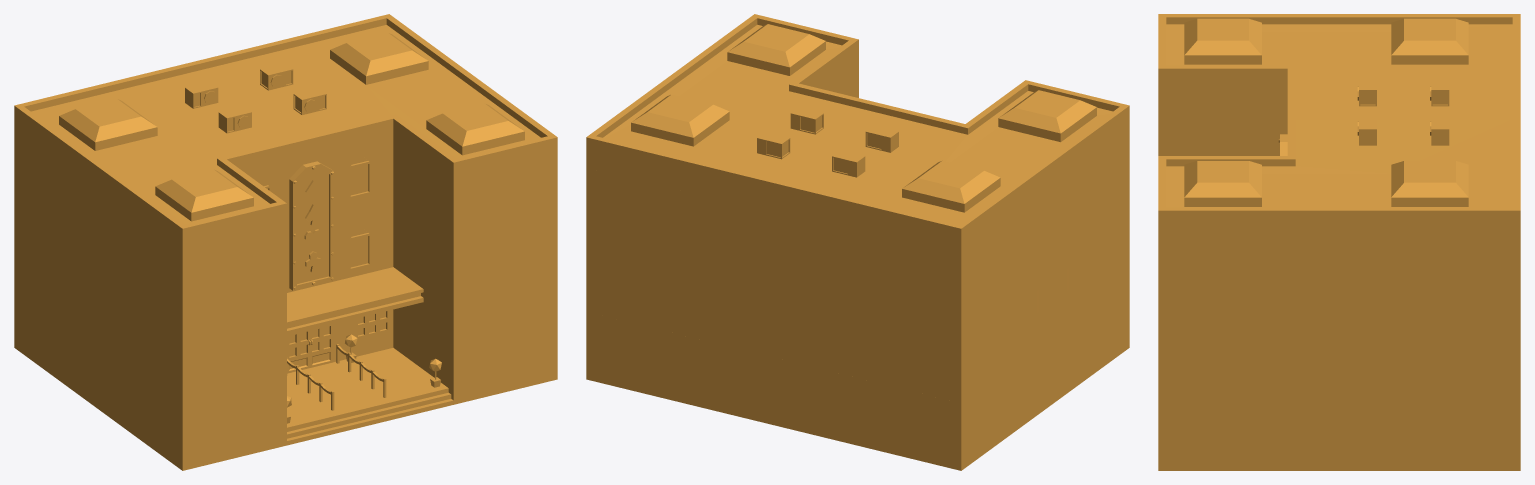
Rendered from building-casino.fbx.
3 renders of one model, left to right at view 1: azimuth 30°, elevation 25°; view 2: azimuth 150°, elevation 25°; view 3: azimuth 270°, elevation 25°, orthographic. The views are drawn at different scales.
Parts seen in each view (by area): view 1: building-casino; view 2: building-casino; view 3: building-casino.
Part boxes in pixels (bbox=[...]): building-casino: bbox=[14, 14, 557, 470]; building-casino: bbox=[586, 14, 1129, 470]; building-casino: bbox=[1158, 14, 1520, 470].
Bounding box in the file's own units: 18 × 11.6 × 14.
